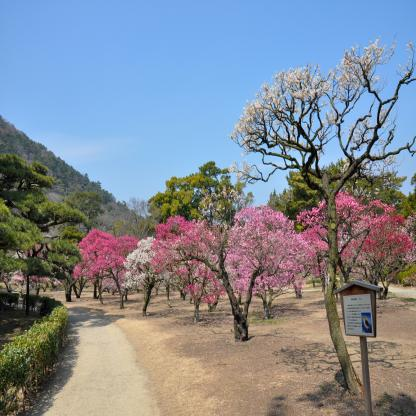Ume: (197, 30, 416, 208), (154, 205, 311, 306), (298, 188, 416, 282), (73, 224, 138, 288), (127, 227, 185, 298)
